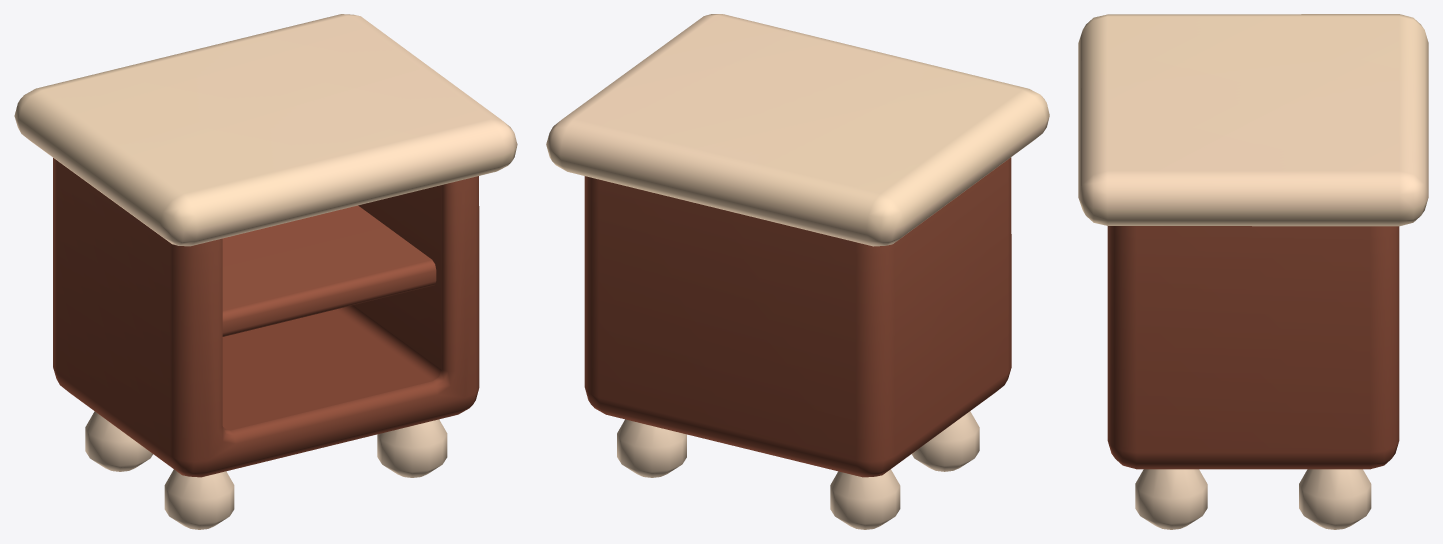
File: Nightstand_001.fbx
3 renders of one model, left to right at view 1: azimuth 30°, elevation 25°; view 2: azimuth 150°, elevation 25°; view 3: azimuth 270°, elevation 25°, orthographic. The views are drawn at different scales.
Parts seen in each view (by area): view 1: Nightstand_001; view 2: Nightstand_001; view 3: Nightstand_001.
Boxes of the visible parts, left/top/right/bottom form: Nightstand_001: left=14, top=14, right=517, bottom=529; Nightstand_001: left=546, top=14, right=1049, bottom=529; Nightstand_001: left=1078, top=14, right=1428, bottom=529.
Bounding box in the file's own units: 58 × 48 × 57.37.
